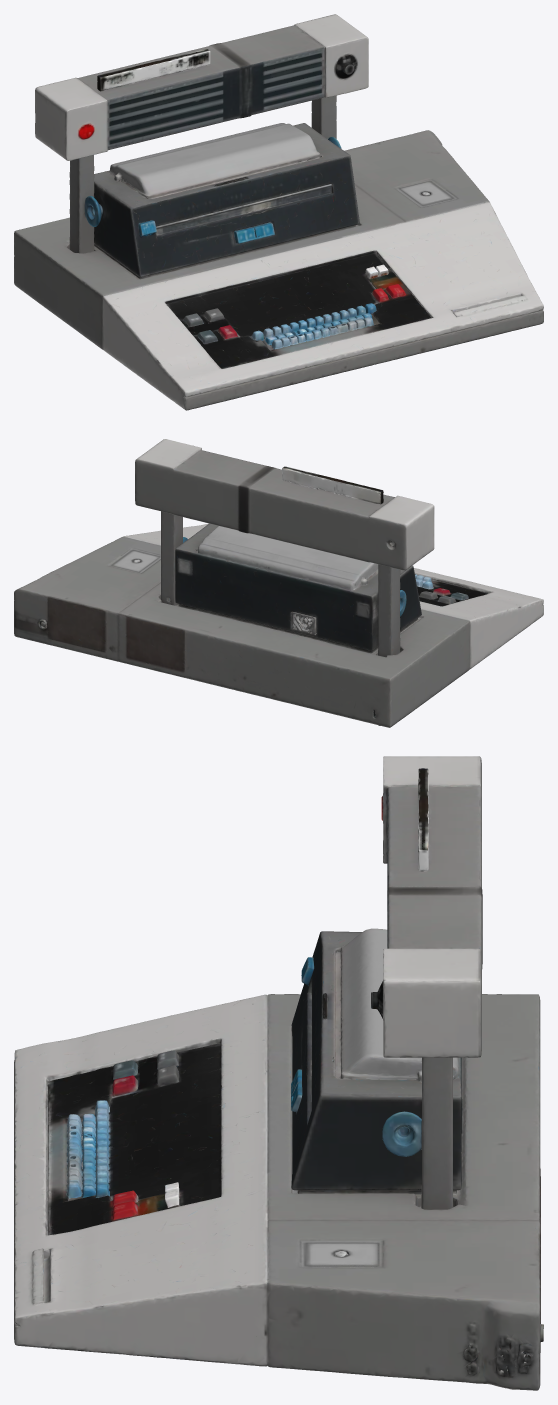
Rendered from ibm1130-superset-reference.glb.
3 views of the same model, one above another, from view 1: azimuth 30°, elevation 25°; view 2: azimuth 150°, elevation 25°; view 3: azimuth 270°, elevation 25° (orthographic). The views are drawn at different scales.
Visible parts, largest first — view 1: world; view 2: world; view 3: world.
Part boxes in pixels (<box>): world: <box>14,14,543,410</box>; world: <box>14,439,543,727</box>; world: <box>14,756,543,1390</box>.
Bounding box in the file's own units: 0.9989 × 0.5298 × 0.7101.
1 material, 1 textured.
